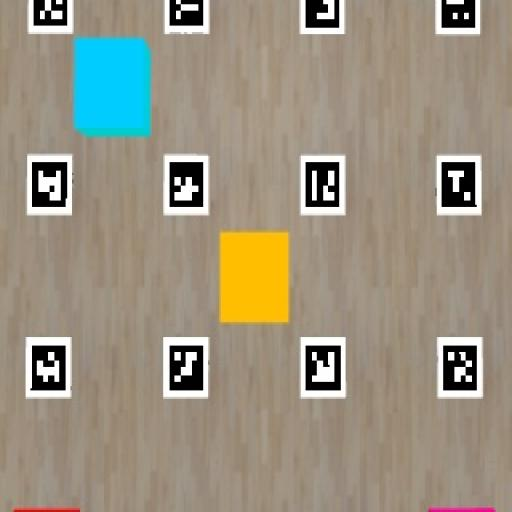car: (74, 37, 151, 136)
fire: (220, 231, 289, 324)
